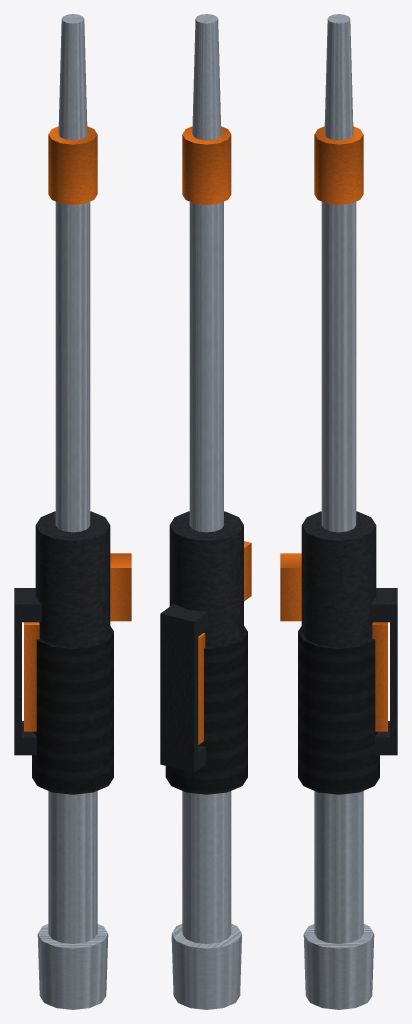
Rendered from pressure_washer.glb.
The picture shows the model from 3 angles, left to right: view 1: azimuth 90°, elevation 25°; view 2: azimuth 150°, elevation 25°; view 3: azimuth 270°, elevation 25°; orthographic projection.
Visible parts, largest first — view 1: PressureWasher; view 2: PressureWasher; view 3: PressureWasher.
Boxes of the visible parts, <box> form: PressureWasher: <box>14,14,131,1009</box>; PressureWasher: <box>160,14,251,1009</box>; PressureWasher: <box>280,14,397,1009</box>.
Bounding box in the file's own units: 0.042 × 0.55 × 0.06.
4 materials, 4 textured.
